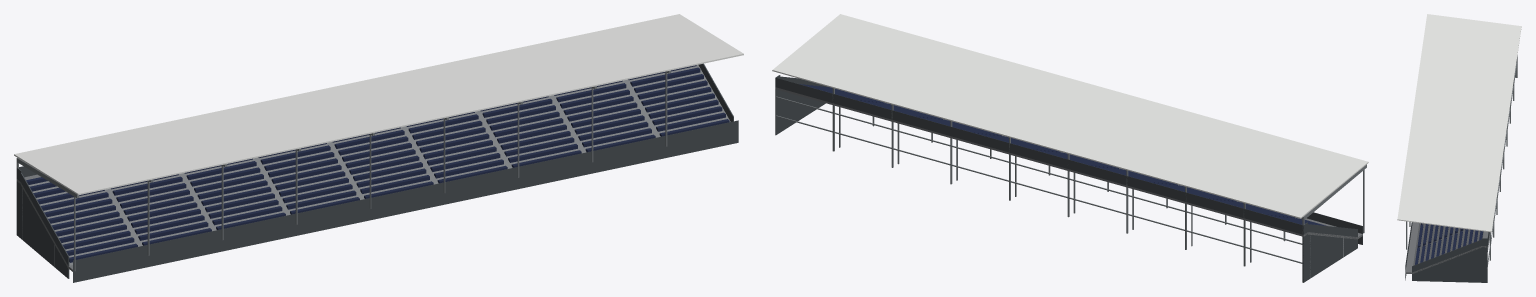
The model's file is sil_stand_copse_a.glb.
3 views of the same model, side by side, from view 1: azimuth 30°, elevation 25°; view 2: azimuth 150°, elevation 25°; view 3: azimuth 270°, elevation 25° (orthographic). The views are drawn at different scales.
Parts seen in each view (by area): view 1: silverstone-copse-a; view 2: silverstone-copse-a; view 3: silverstone-copse-a.
Part boxes in pixels (box(x1,y1,x2,y2)): silverstone-copse-a: box(14, 14, 743, 282); silverstone-copse-a: box(772, 14, 1368, 282); silverstone-copse-a: box(1397, 14, 1521, 282).
Bounding box in the file's own units: 73.34 × 10.08 × 18.51.
